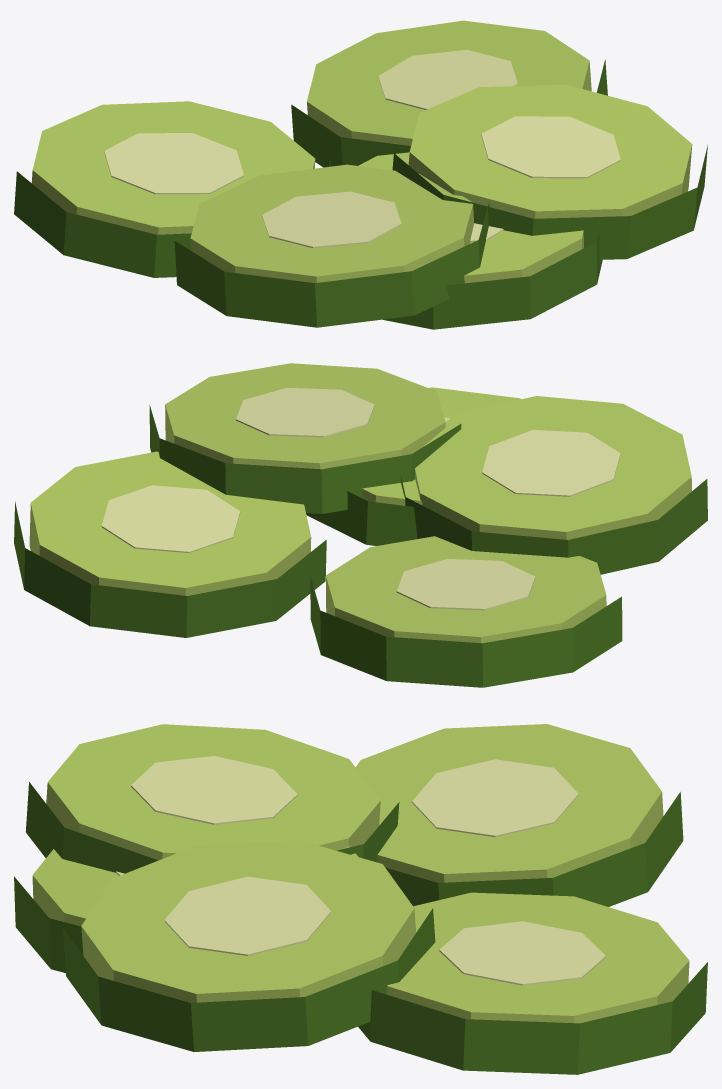
The model's file is food_ingredient_pickle_slices.gltf.
3 views of the same model, one above another, from view 1: azimuth 30°, elevation 25°; view 2: azimuth 150°, elevation 25°; view 3: azimuth 270°, elevation 25° (orthographic). The views are drawn at different scales.
Visible parts, largest first — view 1: food_ingredient_pickle_slices; view 2: food_ingredient_pickle_slices; view 3: food_ingredient_pickle_slices.
Part boxes in pixels (<box>): food_ingredient_pickle_slices: <box>14,20,707,329</box>; food_ingredient_pickle_slices: <box>14,363,707,687</box>; food_ingredient_pickle_slices: <box>14,724,707,1074</box>.
Size of the model in its own units: 0.5972 by 0.0961 by 0.5614.
